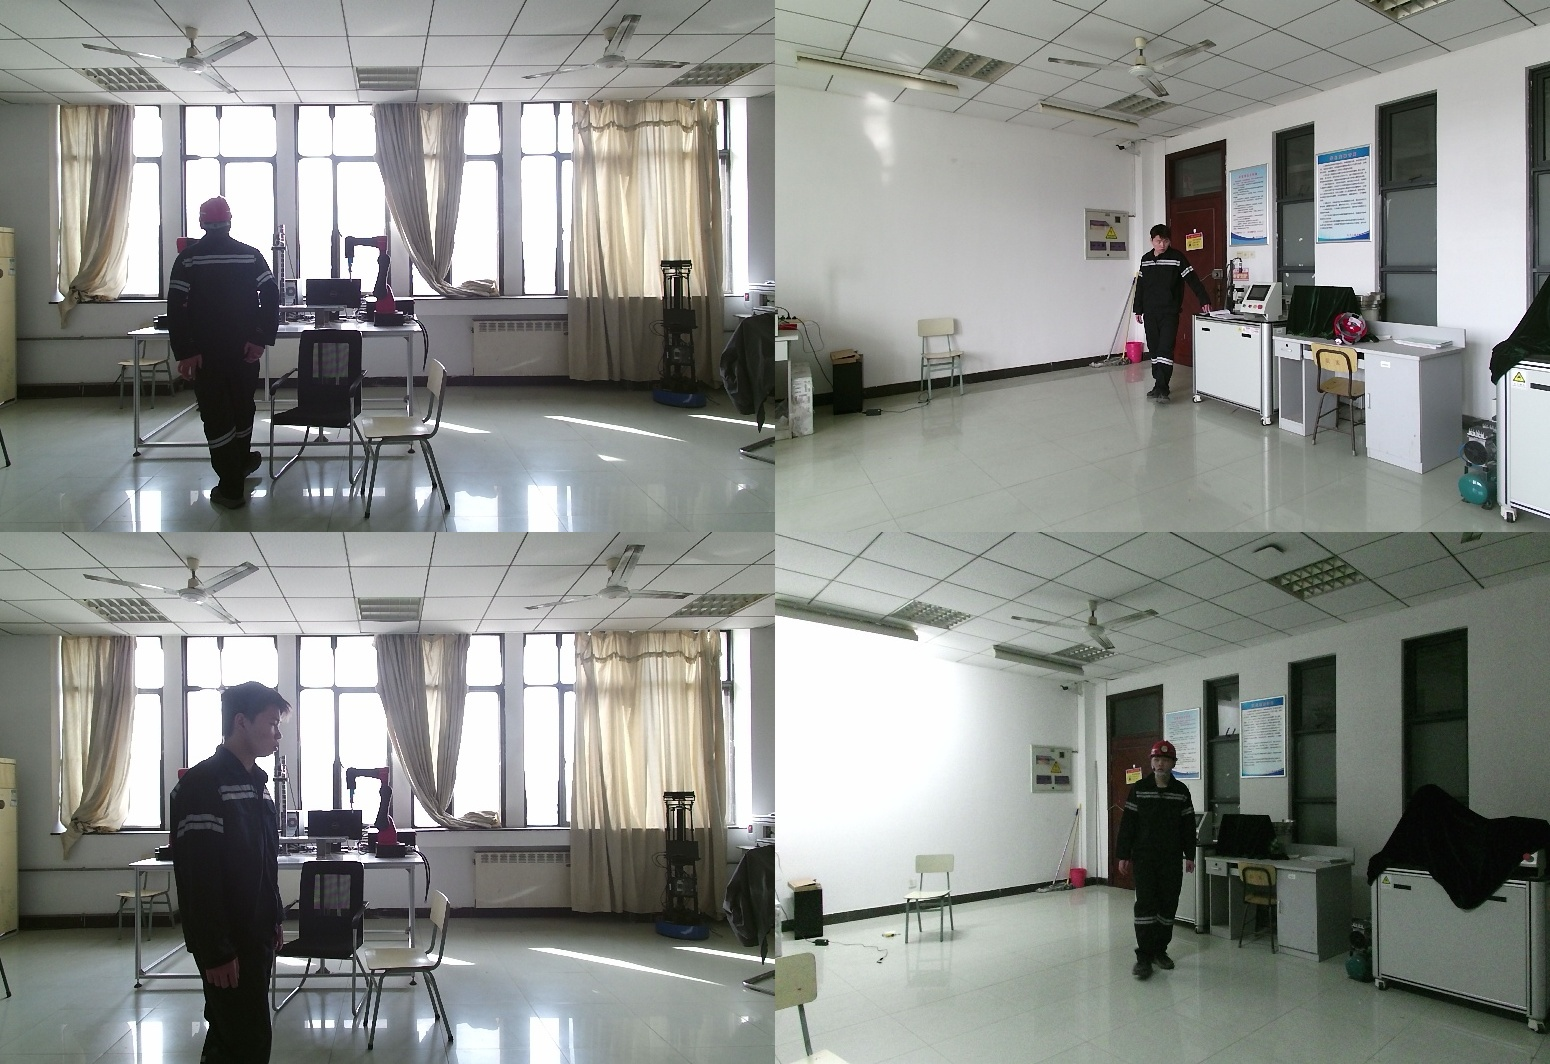person: (170, 683, 290, 1064), (165, 198, 283, 509), (1117, 741, 1205, 980), (1137, 226, 1213, 408)
